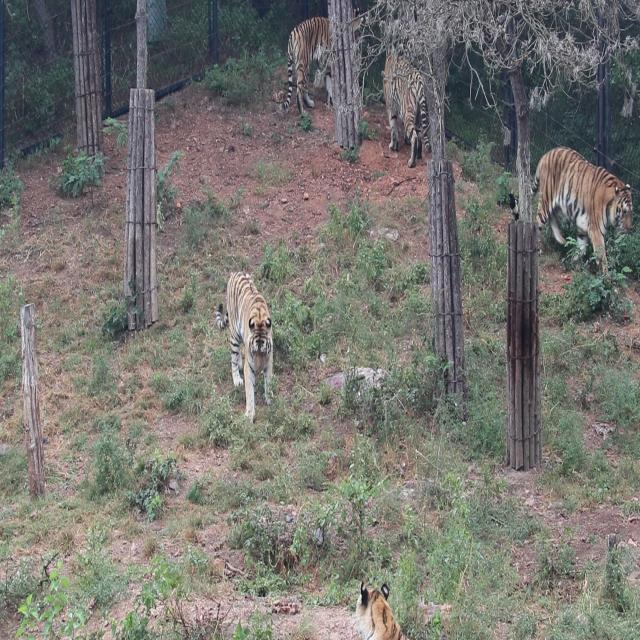Tiger: (535, 124, 632, 294), (215, 266, 279, 424), (278, 9, 340, 124), (380, 42, 430, 168), (352, 580, 412, 640)
